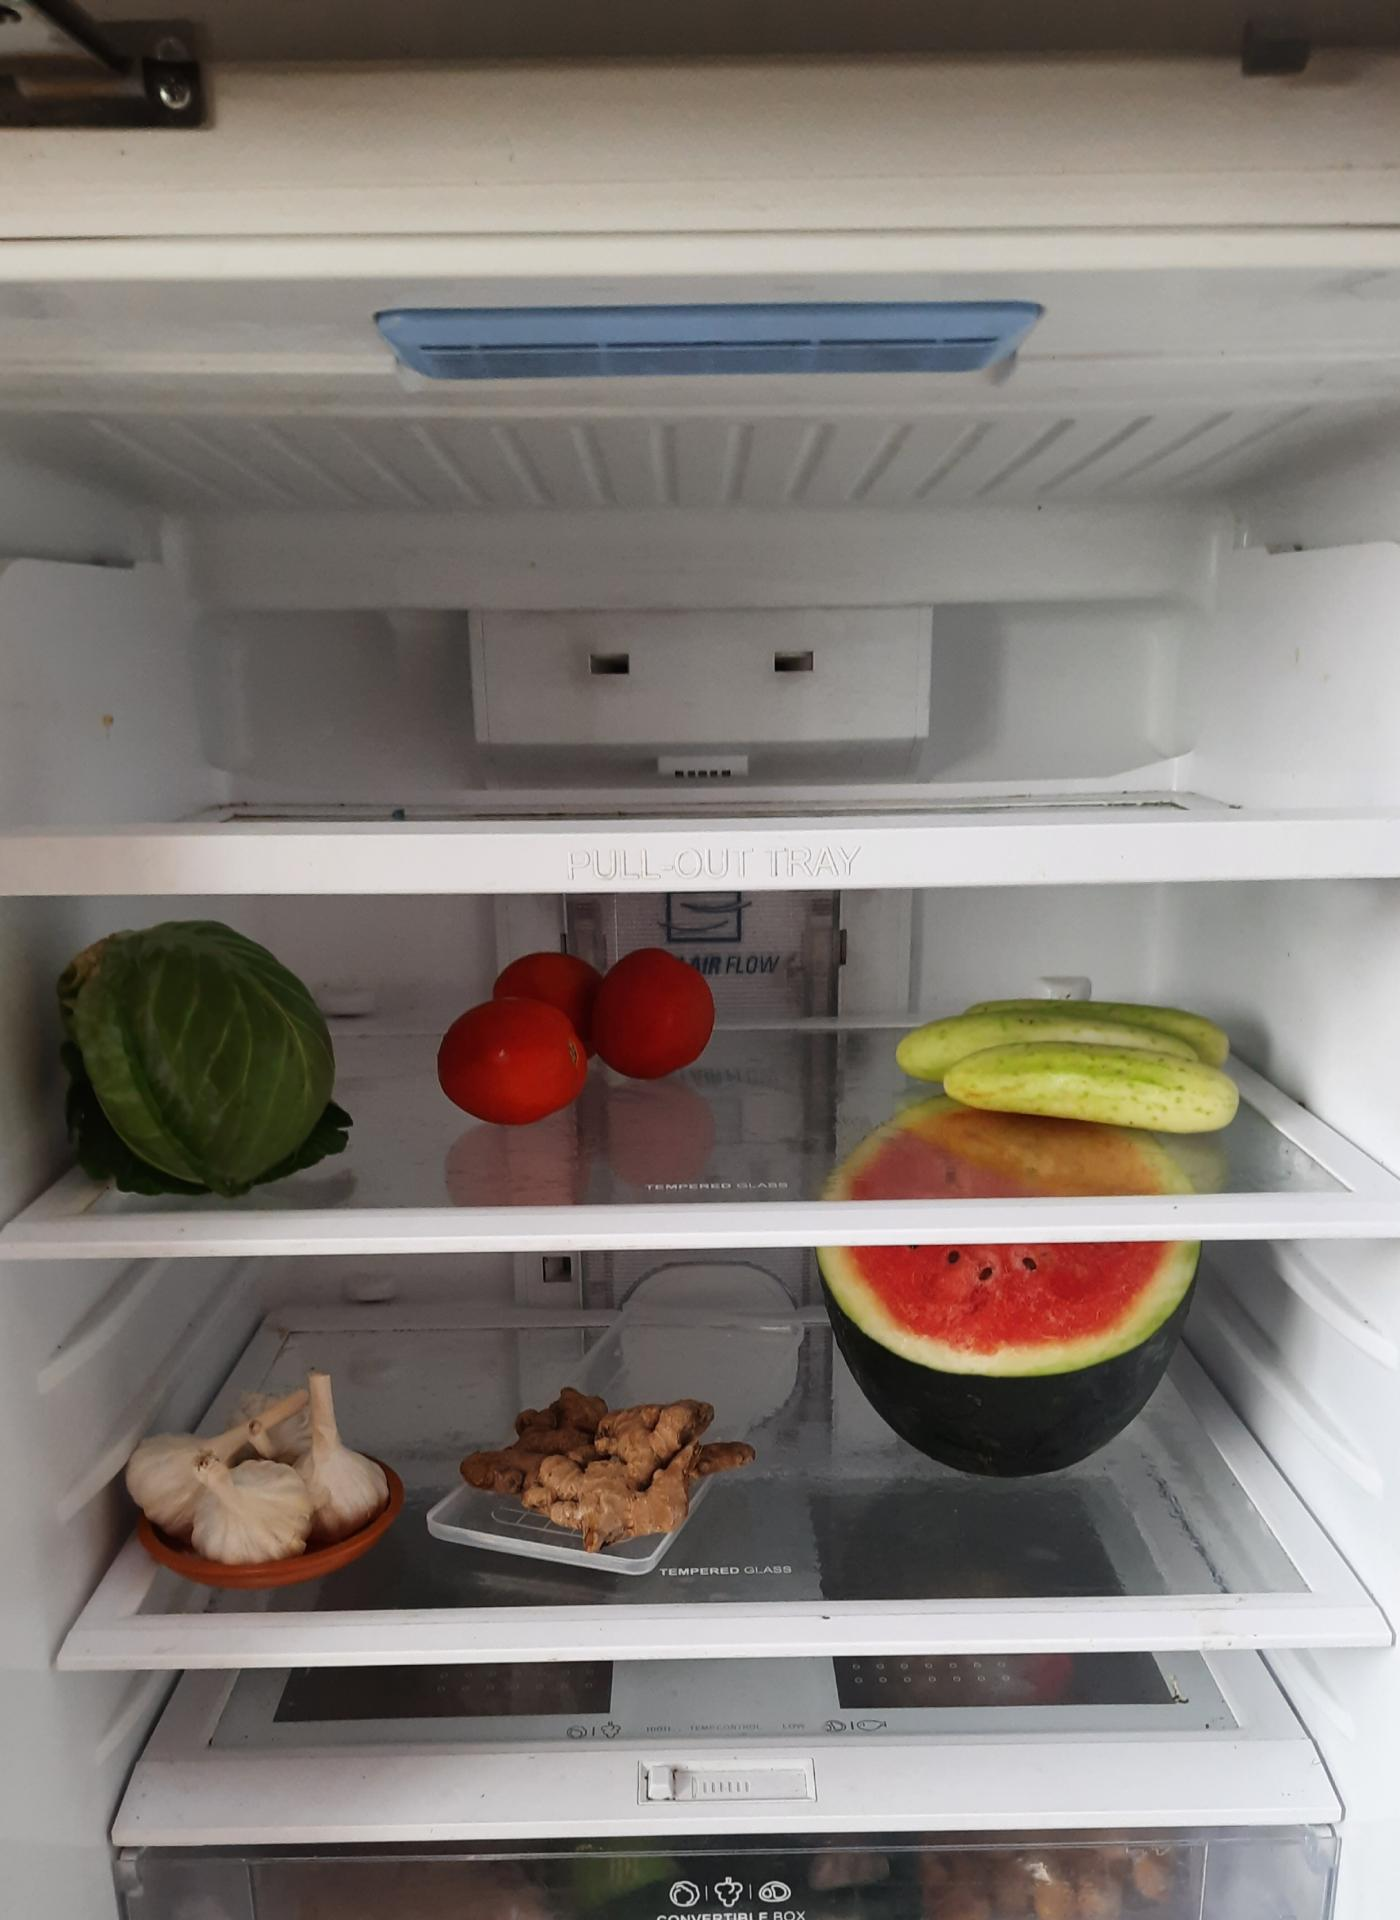cabbage: (60, 921, 343, 1190)
cucumber: (890, 1000, 1242, 1136)
garlic: (121, 1371, 395, 1570)
ginger: (458, 1380, 751, 1546)
tomato: (432, 938, 722, 1131)
watermelon: (813, 1139, 1197, 1473)
